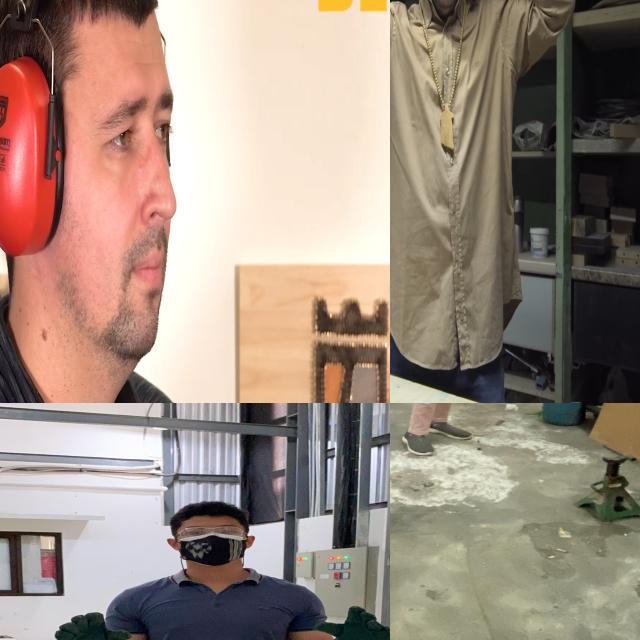Ear-protection: (0, 0, 66, 259)
No_Glasses: (75, 63, 185, 173)
face_mask: (172, 525, 250, 561)
glasses: (170, 523, 252, 542)
hand_glove: (306, 603, 390, 640), (49, 607, 131, 640)
head_nohelmet: (172, 498, 243, 525)
person: (0, 0, 224, 403), (390, 0, 580, 403), (47, 503, 390, 640), (394, 403, 504, 461)
shoes: (423, 418, 478, 443), (396, 431, 438, 459)
